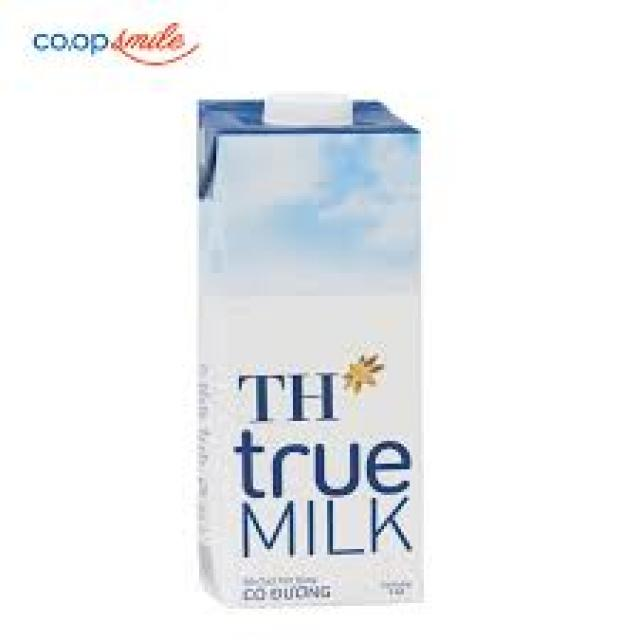non_white_jug: (166, 70, 454, 616)
